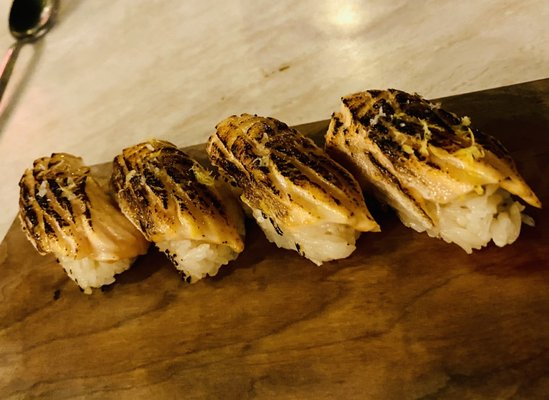salad: (0, 0, 59, 115)
